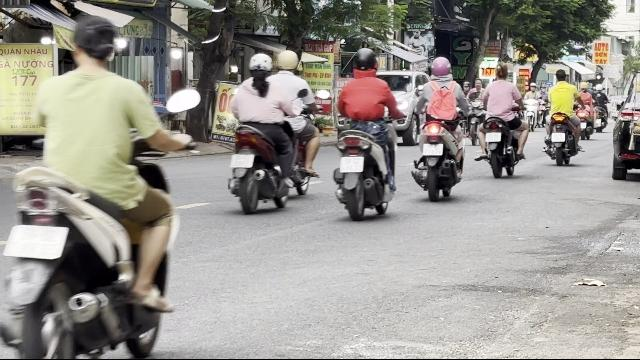helmet: (350, 47, 378, 75), (247, 52, 273, 80), (428, 56, 452, 80), (275, 50, 299, 72)
licenseplate: (3, 224, 67, 257), (340, 156, 364, 172), (230, 153, 252, 167), (423, 144, 443, 156)
motorcyclist: (1, 9, 190, 355), (225, 48, 321, 212), (331, 45, 401, 218), (410, 57, 468, 200)
nohelmet: (68, 15, 120, 67)
